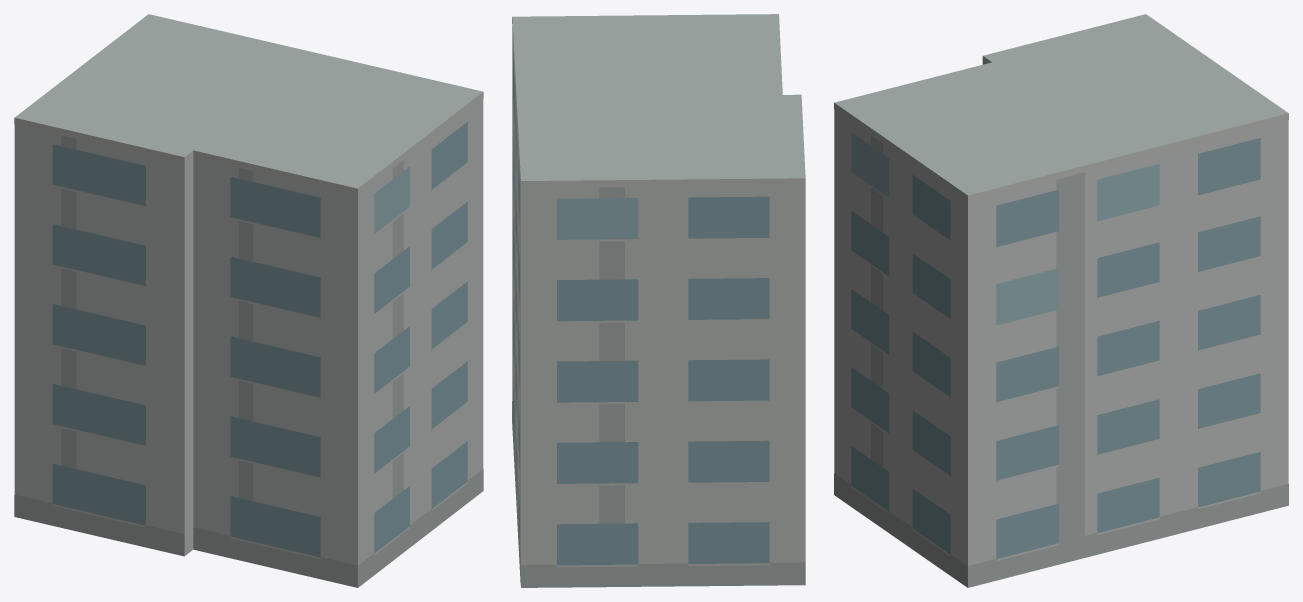
File: survey-upis-33016447.glb
3 views of the same model, side by side, from view 1: azimuth 30°, elevation 25°; view 2: azimuth 150°, elevation 25°; view 3: azimuth 270°, elevation 25° (orthographic). The views are drawn at different scales.
Parts seen in each view (by area): view 1: survey-upis-33016447.tmp; view 2: survey-upis-33016447.tmp; view 3: survey-upis-33016447.tmp.
Part boxes in pixels (left/top/right/bottom): survey-upis-33016447.tmp: left=14, top=14, right=483, bottom=587; survey-upis-33016447.tmp: left=512, top=14, right=805, bottom=587; survey-upis-33016447.tmp: left=834, top=14, right=1288, bottom=587.
Bounding box in the file's own units: 13.95 × 14.05 × 14.76.
